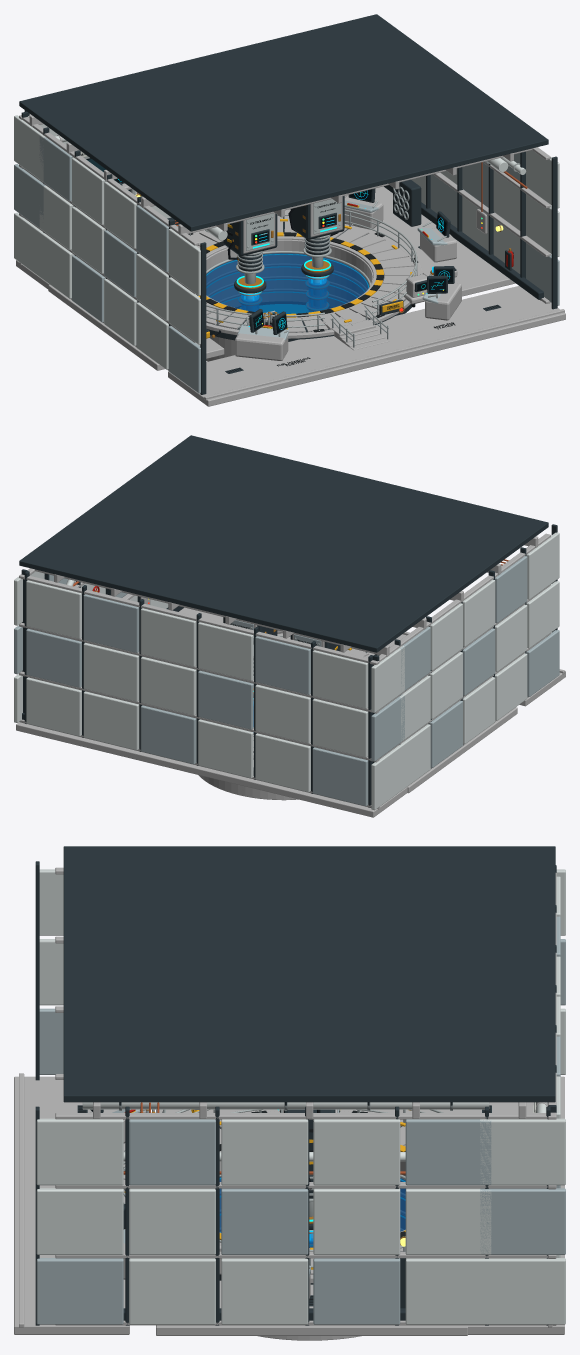
Rendered from ReactorPool_StylizedLowPoly.fbx.
3 views of the same model, one above another, from view 1: azimuth 30°, elevation 25°; view 2: azimuth 150°, elevation 25°; view 3: azimuth 270°, elevation 25° (orthographic). The views are drawn at different scales.
Visible parts, largest first — view 1: CSF_CeilingDeck, CSF_Floor_Front, CSF_WaterSurface, CSF_PoolLiner, CSF_Floor_Right, CSF_LWallPanel_1_0, CSF_LWallPanel_0_0, CSF_LWallPanel_1_2, CSF_LWallPanel_0_2, CSF_LWallPanel_0_1, CSF_LWallPanel_1_1, CSF_LWallPanel_2_0 (+42 smaller); view 2: CSF_CeilingDeck, CSF_Floor_Back, CSF_BackPanel_0_0, CSF_BackPanel_0_3, CSF_BackPanel_1_0, CSF_BackPanel_1_4, CSF_BackPanel_0_4, CSF_BackPanel_1_3, CSF_BackPanel_2_0, CSF_BackPanel_2_3, CSF_BackPanel_2_4, CSF_BackPanel_0_1 (+36 smaller); view 3: CSF_CeilingDeck, CSF_Floor_Front, CSF_RWallPanel_2_0, CSF_RWallPanel_0_3, CSF_RWallPanel_2_3, CSF_RWallPanel_0_0, CSF_RWallPanel_2_2, CSF_RWallPanel_0_2, CSF_RWallPanel_1_0, CSF_RWallPanel_1_2, CSF_RWallPanel_1_3, CSF_RWallPanel_0_1 (+24 smaller).
Part boxes in pixels (left/top/right/bottom): CSF_CeilingDeck: left=19, top=14, right=548, bottom=231; CSF_Floor_Front: left=168, top=286, right=565, bottom=406; CSF_WaterSurface: left=206, top=253, right=369, bottom=313; CSF_PoolLiner: left=206, top=239, right=373, bottom=361; CSF_Floor_Right: left=363, top=202, right=515, bottom=296; CSF_LWallPanel_1_0: left=168, top=277, right=200, bottom=344; CSF_LWallPanel_0_0: left=168, top=326, right=200, bottom=393; CSF_LWallPanel_1_2: left=104, top=230, right=137, bottom=297; CSF_LWallPanel_0_2: left=104, top=279, right=137, bottom=345; CSF_LWallPanel_0_1: left=136, top=302, right=168, bottom=369; CSF_LWallPanel_1_1: left=136, top=253, right=168, bottom=320; CSF_LWallPanel_2_0: left=168, top=228, right=200, bottom=295; CSF_CeilingDeck: left=19, top=435, right=548, bottom=652; CSF_Floor_Back: left=16, top=722, right=407, bottom=817; CSF_BackPanel_0_0: left=312, top=747, right=368, bottom=806; CSF_BackPanel_0_3: left=140, top=705, right=196, bottom=764; CSF_BackPanel_1_0: left=312, top=698, right=368, bottom=757; CSF_BackPanel_1_4: left=83, top=642, right=139, bottom=701; CSF_BackPanel_0_4: left=83, top=691, right=139, bottom=750; CSF_BackPanel_1_3: left=140, top=656, right=196, bottom=715; CSF_BackPanel_2_0: left=312, top=650, right=368, bottom=708; CSF_BackPanel_2_3: left=140, top=608, right=196, bottom=666; CSF_BackPanel_2_4: left=83, top=594, right=139, bottom=652; CSF_BackPanel_0_1: left=255, top=733, right=310, bottom=792; CSF_CeilingDeck: left=63, top=846, right=555, bottom=1102; CSF_Floor_Front: left=14, top=1076, right=129, bottom=1334; CSF_RWallPanel_2_0: left=36, top=1118, right=123, bottom=1185; CSF_RWallPanel_0_3: left=313, top=1258, right=400, bottom=1324; CSF_RWallPanel_2_3: left=313, top=1119, right=400, bottom=1185; CSF_RWallPanel_0_0: left=36, top=1258, right=123, bottom=1324; CSF_RWallPanel_2_2: left=221, top=1119, right=308, bottom=1185; CSF_RWallPanel_0_2: left=221, top=1258, right=308, bottom=1324; CSF_RWallPanel_1_0: left=36, top=1188, right=123, bottom=1254; CSF_RWallPanel_1_2: left=221, top=1188, right=308, bottom=1254; CSF_RWallPanel_1_3: left=313, top=1188, right=400, bottom=1254; CSF_RWallPanel_0_1: left=129, top=1258, right=215, bottom=1324.
Size of the model in its own units: 2524 by 1475 by 2334.
